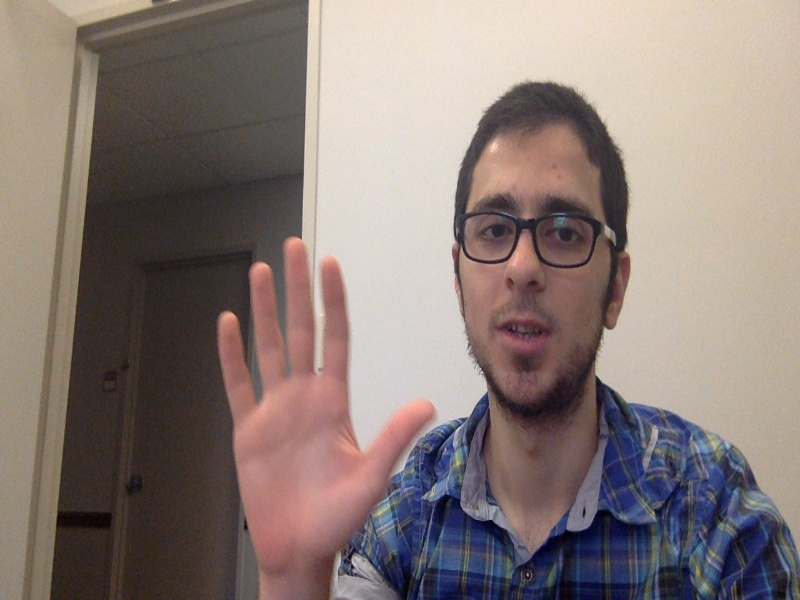5-hand: (212, 233, 439, 567)
